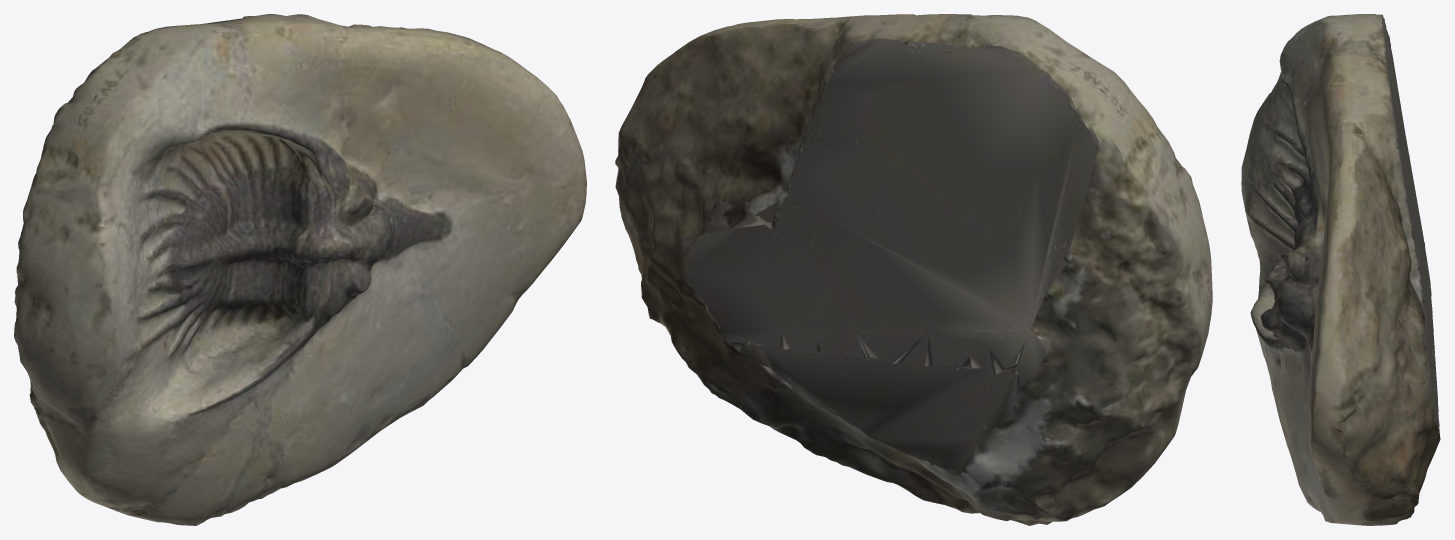
File: trilobite.glb
3 renders of one model, left to right at view 1: azimuth 30°, elevation 25°; view 2: azimuth 150°, elevation 25°; view 3: azimuth 270°, elevation 25°, orthographic. The views are drawn at different scales.
Parts seen in each view (by area): view 1: mesh_0; view 2: mesh_0; view 3: mesh_0.
Boxes of the visible parts, x1,y1,x2,y2 form: mesh_0: (14, 14, 586, 525); mesh_0: (615, 14, 1212, 525); mesh_0: (1241, 14, 1440, 525).
Size of the model in its own units: 0.1664 by 0.1345 by 0.0538.
Materials: 1 (1 with a texture image).
